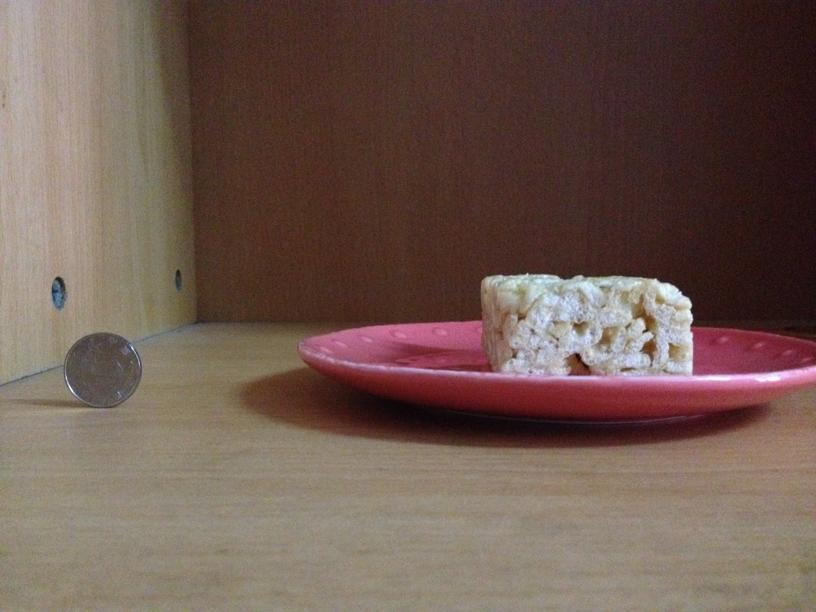coin: (62, 331, 142, 409)
sachima: (476, 268, 695, 377)
